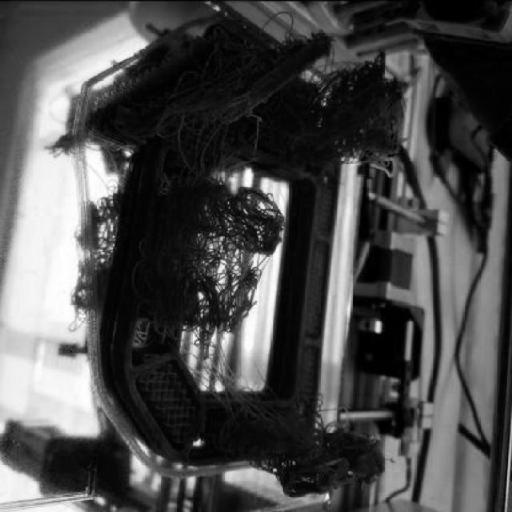spaghetti_and_stringing: (96, 14, 414, 168), (124, 164, 294, 384), (204, 382, 394, 500)
